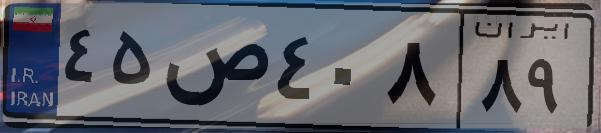0: (330, 28, 385, 110)
4: (270, 28, 330, 110), (57, 26, 110, 100)
5: (110, 28, 158, 98)
8: (385, 28, 445, 110), (475, 38, 525, 113)
9: (525, 38, 570, 115)
ص: (158, 20, 270, 120)
